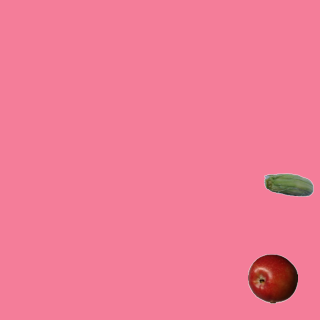Apple Braeburn: (247, 253, 297, 303)
Corn Husk: (263, 161, 313, 211)
